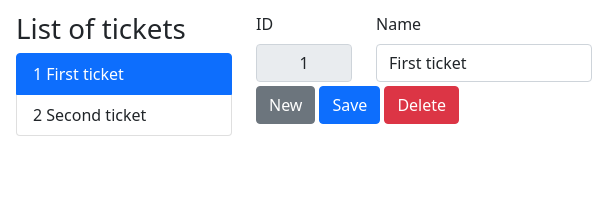
Test: My First Test › Visits the initial project page
# Given I have content in ticket name
Type "2" into the field named "name" below "Name".
click(484, 63); type("2")  # box [376, 44, 592, 82]
# When I click on button new
Click the button with test id "button-new".
click(286, 105)  # box [256, 86, 316, 124]
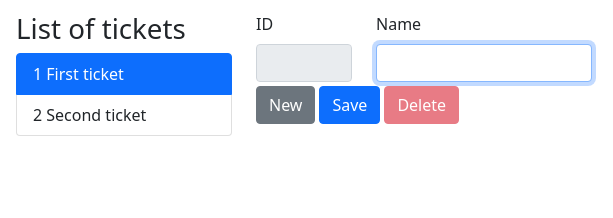
# Given I have content in ticket name
Type "New ticket" into the field named "name" below "Name".
click(484, 63); type("New ticket")  # box [376, 44, 592, 82]
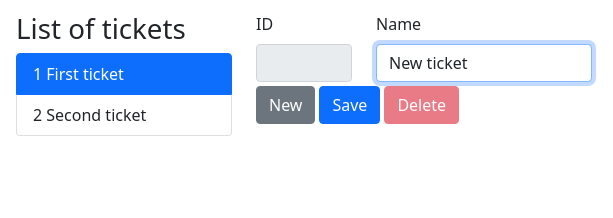
# When I click on save
Click the button with test id "button-save".
click(351, 105)  # box [320, 86, 381, 124]
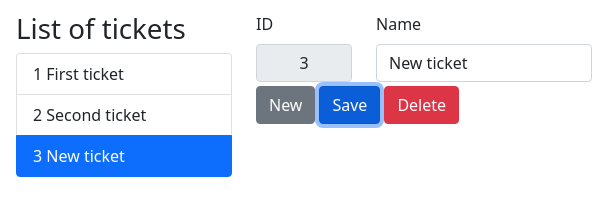
Now the field named "id" below "ID" holds "3", box [256, 44, 352, 82]
Now the number of links is 3, box [16, 53, 232, 95]; [16, 95, 232, 136]; [16, 135, 232, 177]
# Give I update the ticket name
Type "New ticket updated" into the field named "name" below "Name".
click(484, 63); type("New ticket updated")  # box [376, 44, 592, 82]
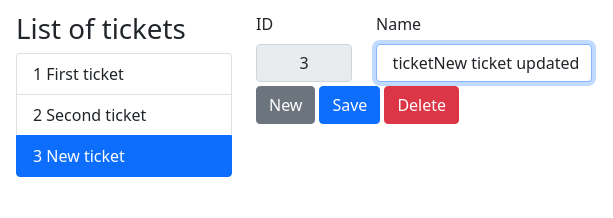
# When I click on save
Click the button with test id "button-save".
click(351, 105)  # box [320, 86, 381, 124]
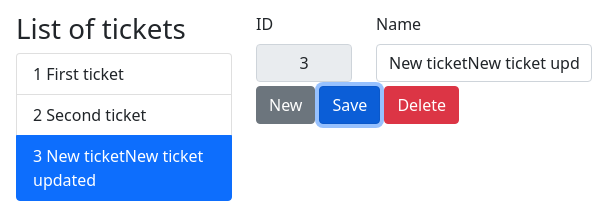
Now the number of links is 3, box [16, 53, 232, 95]; [16, 95, 232, 136]; [16, 135, 232, 201]
# When I click on delete
Click the button with test id "button-delete".
click(422, 105)  # box [384, 86, 459, 124]
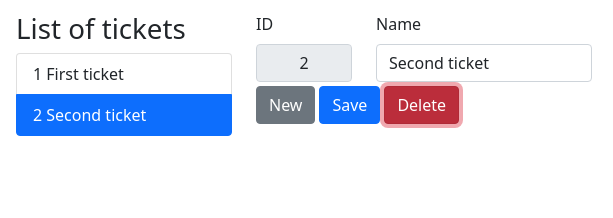
Now the number of links is 2, box [16, 53, 232, 95]; [16, 94, 232, 136]
